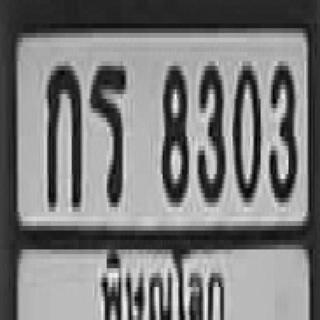A01: (46, 61, 80, 202)
A35: (89, 61, 126, 202)
N00: (233, 61, 259, 198)
N03: (268, 56, 296, 198), (196, 61, 224, 198)
N08: (161, 61, 187, 198)
P46: (96, 232, 230, 320)
